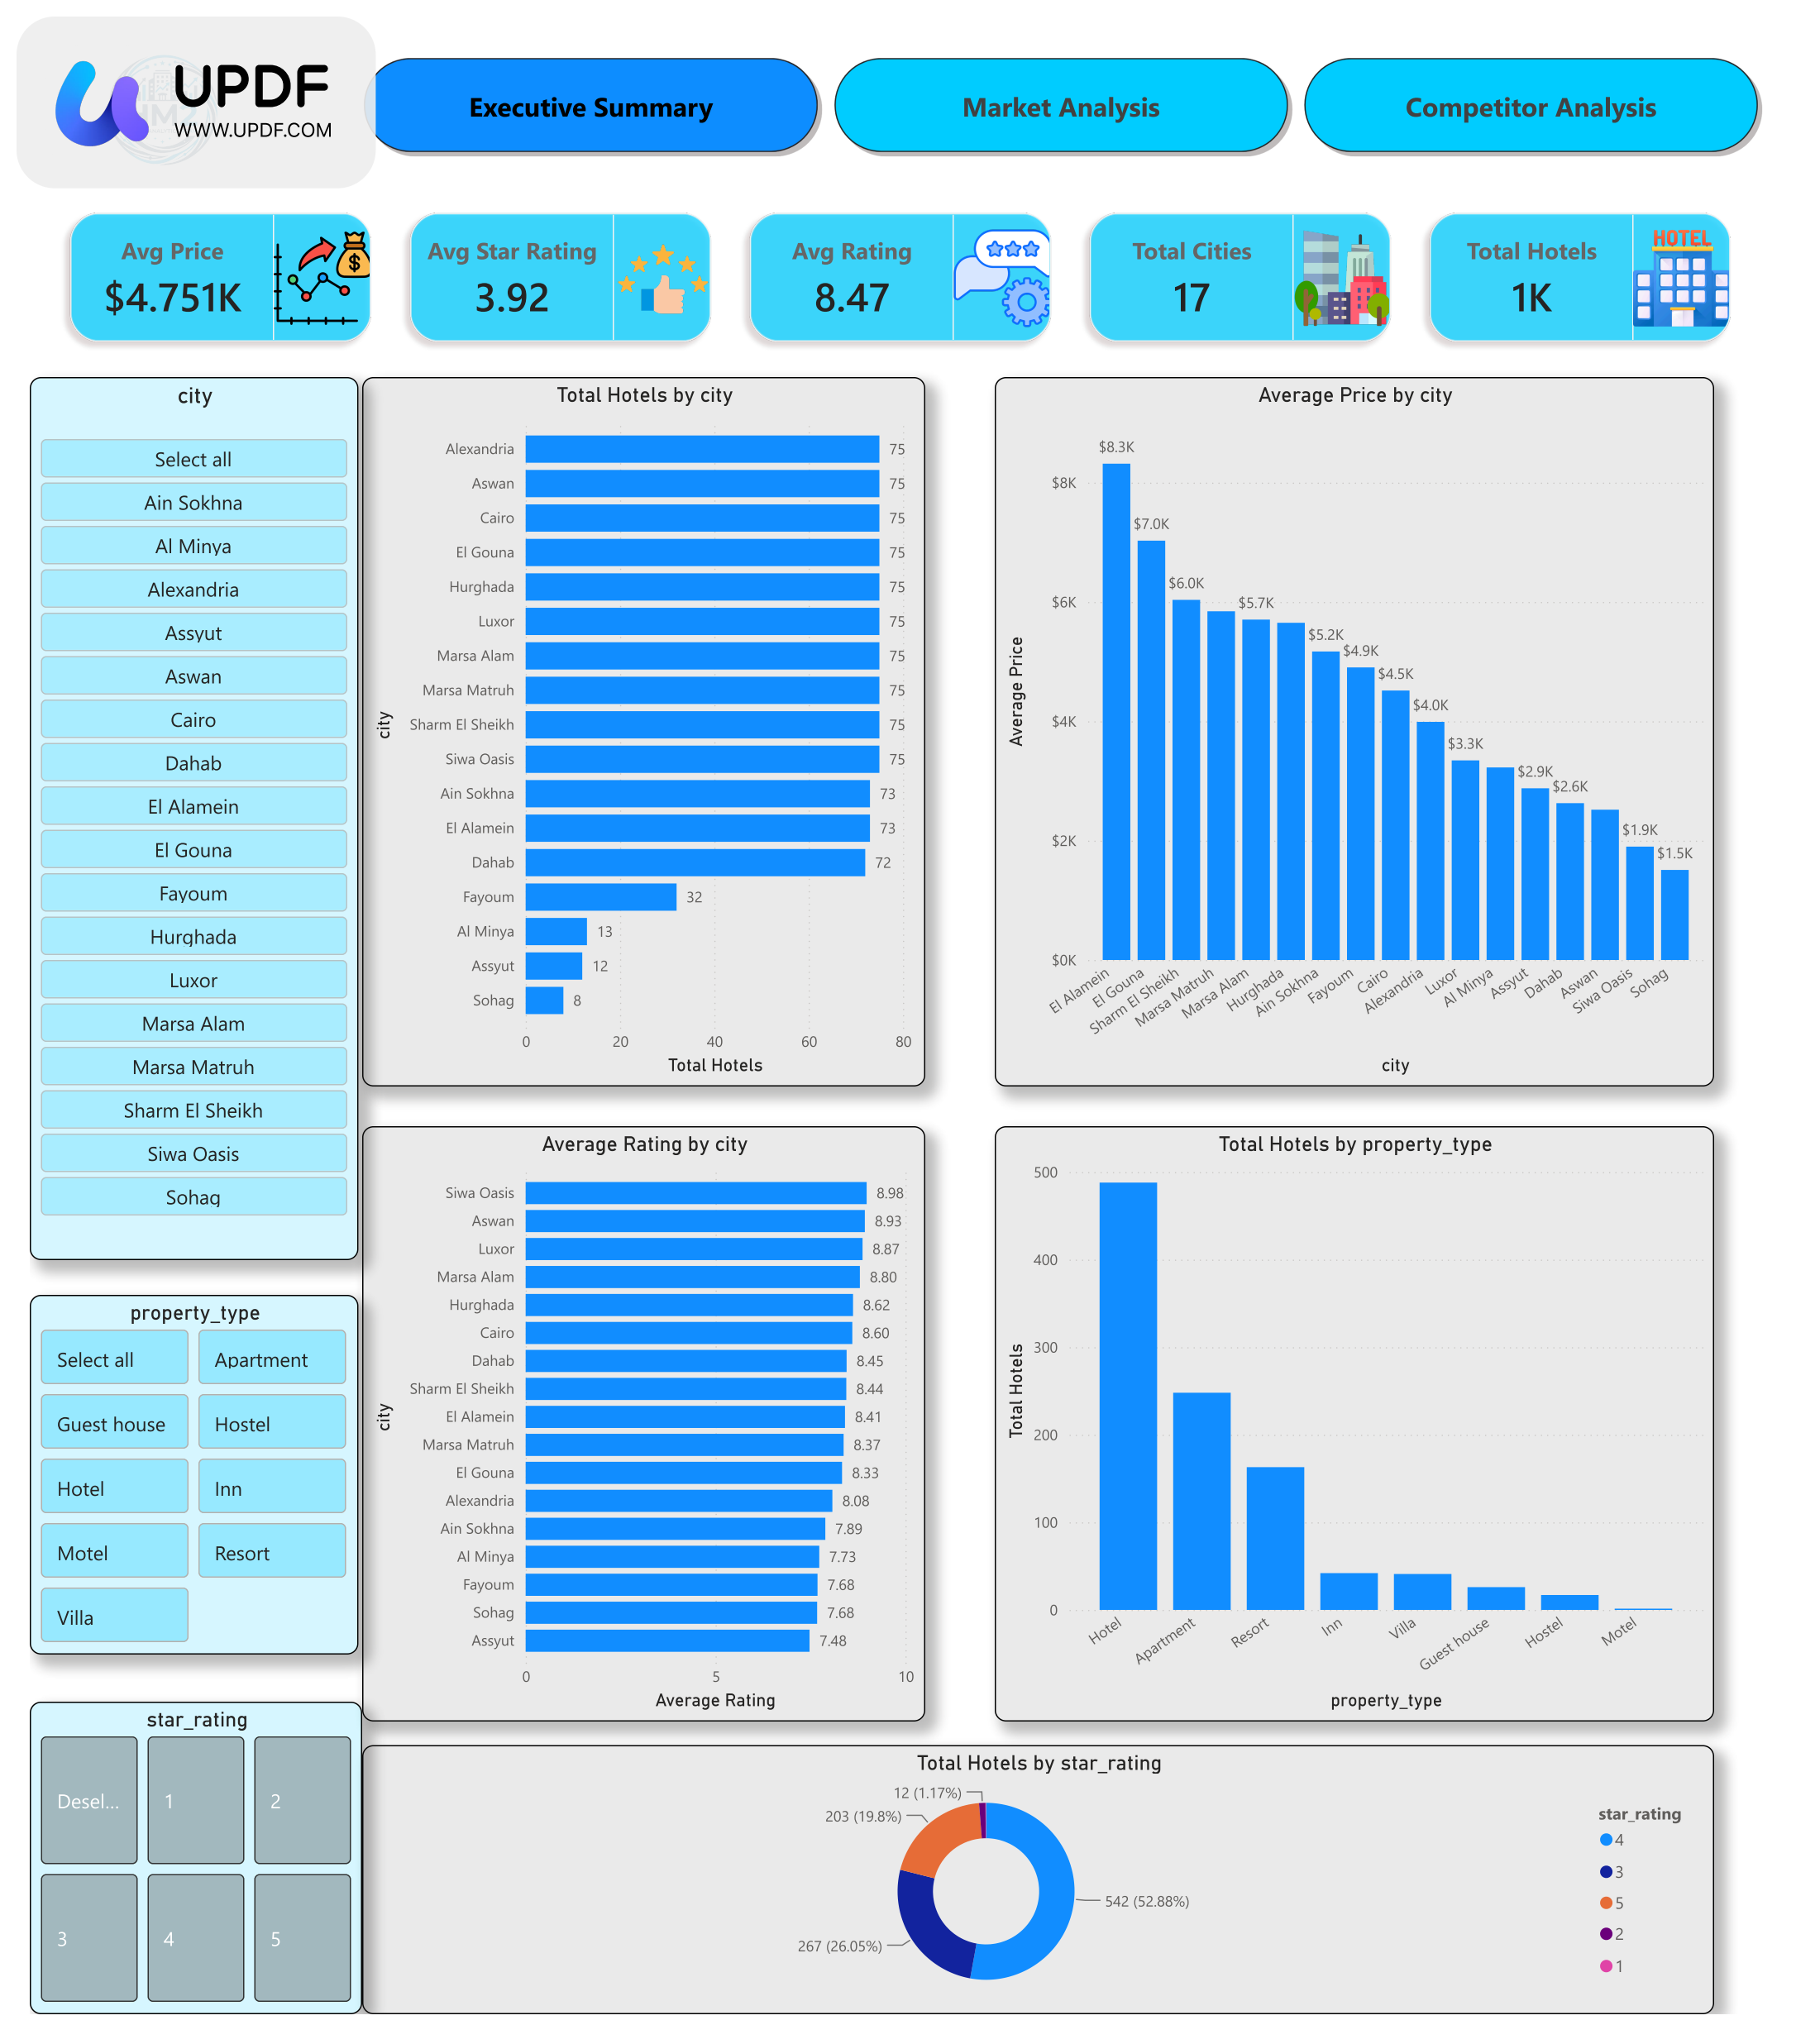

What the dashboard file says about the page in this screenshot:
{"tool":"powerbi","page":{"name":"Executive Summary","canvas":[1400,1600],"ordinal":0},"visuals":[{"type":"cardVisual","fields":{"Data":["Hotels_Cleaned1.Average Price","Hotels_Cleaned1.Average Star Rating","Hotels_Cleaned1.Average Rating","Hotels_Cleaned1.Total Cities","Hotels_Cleaned1.Total Hotels"]},"box":[4.3,118.6,1395.7,161.4],"z":0},{"type":"pageNavigator","box":[265,18.3,1135,85],"z":1000},{"type":"clusteredBarChart","fields":{"Category":["Hotels_Cleaned1.city"],"Y":["Hotels_Cleaned1.Total Hotels"]},"box":[268,280,454,572],"z":2000},{"type":"columnChart","fields":{"Category":["Hotels_Cleaned1.city"],"Y":["Hotels_Cleaned1.Average Price"]},"box":[778.3,280,580,571.7],"z":3000},{"type":"clusteredBarChart","fields":{"Category":["Hotels_Cleaned1.city"],"Y":["Hotels_Cleaned1.Average Rating"]},"box":[268.3,883.7,453.3,480],"z":4000},{"type":"donutChart","fields":{"Y":["Hotels_Cleaned1.Total Hotels"],"Category":["Hotels_Cleaned1.star_rating"]},"box":[268.3,1383.3,1090,216.7],"z":5000},{"type":"clusteredColumnChart","fields":{"Category":["Hotels_Cleaned1.property_type"],"Y":["Hotels_Cleaned1.Total Hotels"]},"box":[778.3,883.7,580,480],"z":6000},{"type":"advancedSlicerVisual","fields":{"Values":["Hotels_Cleaned1.city"]},"box":[0,280,265,711.7],"z":7000},{"type":"advancedSlicerVisual","fields":{"Values":["Hotels_Cleaned1.property_type"]},"box":[0,1020,265,290],"z":8000},{"type":"advancedSlicerVisual","fields":{"Values":["Hotels_Cleaned1.star_rating"]},"box":[0,1347.5,267.5,252.5],"z":9000},{"type":"image","box":[0,0,214.3,128.6],"z":10000}]}

Visuals, with their boxes in screenshot pixels (x1, y1, x2, y2), scaled from the page's 1400x1600 canvas onto the 1796x2044 screenshot:
cardVisual - Hotels_Cleaned1.Average Price x Hotels_Cleaned1.Average Star Rating: l=6, t=151, r=1795, b=358
pageNavigator: l=340, t=23, r=1795, b=132
clusteredBarChart - Hotels_Cleaned1.city x Hotels_Cleaned1.Total Hotels: l=344, t=358, r=926, b=1088
columnChart - Hotels_Cleaned1.city x Hotels_Cleaned1.Average Price: l=998, t=358, r=1742, b=1088
clusteredBarChart - Hotels_Cleaned1.city x Hotels_Cleaned1.Average Rating: l=344, t=1129, r=926, b=1742
donutChart - Hotels_Cleaned1.Total Hotels x Hotels_Cleaned1.star_rating: l=344, t=1767, r=1742, b=2043
clusteredColumnChart - Hotels_Cleaned1.property_type x Hotels_Cleaned1.Total Hotels: l=998, t=1129, r=1742, b=1742
advancedSlicerVisual - Hotels_Cleaned1.city: l=0, t=358, r=340, b=1267
advancedSlicerVisual - Hotels_Cleaned1.property_type: l=0, t=1303, r=340, b=1674
advancedSlicerVisual - Hotels_Cleaned1.star_rating: l=0, t=1722, r=343, b=2043
image: l=0, t=0, r=275, b=165
